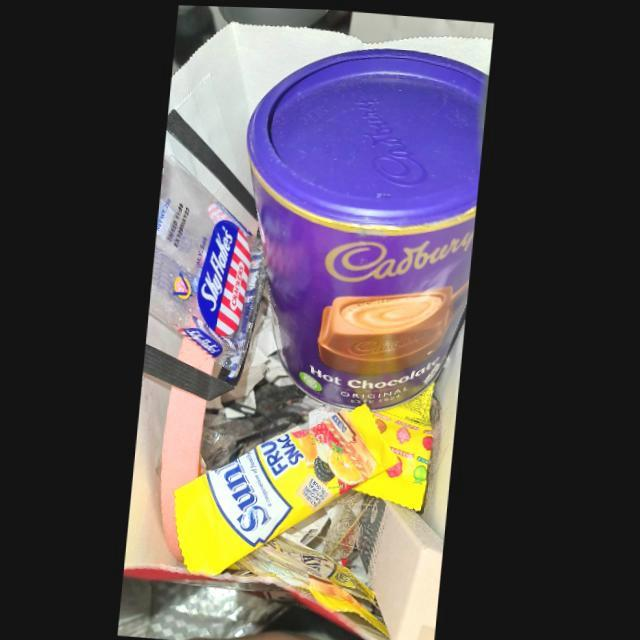food_wrapper: (178, 381, 439, 576), (153, 153, 269, 378)
plastic_container: (247, 44, 490, 410)
